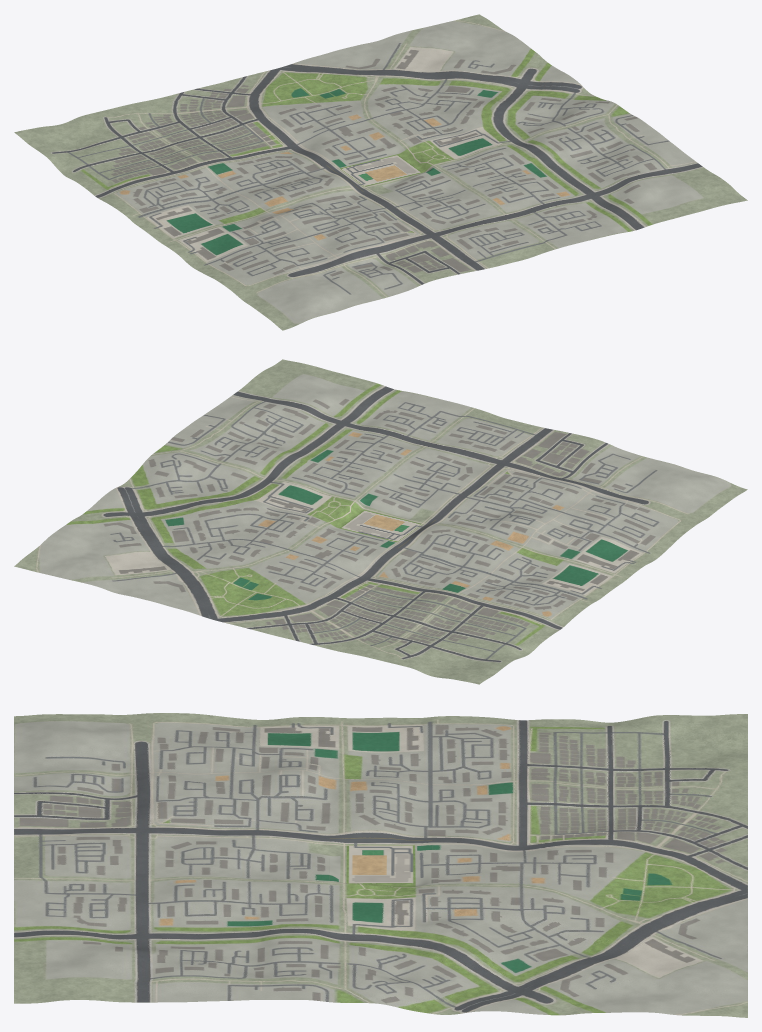
3 views of the same model, one above another, from view 1: azimuth 30°, elevation 25°; view 2: azimuth 150°, elevation 25°; view 3: azimuth 270°, elevation 25° (orthographic). The views are drawn at different scales.
Visible parts, largest first — view 1: ground-area, ground-school; view 2: ground-area, ground-school; view 3: ground-area, ground-school.
Part boxes in pixels (bbox=[...]): ground-area: bbox=[14, 14, 747, 330]; ground-school: bbox=[321, 143, 440, 192]; ground-area: bbox=[14, 359, 747, 684]; ground-school: bbox=[321, 496, 440, 549]; ground-area: bbox=[14, 713, 747, 1017]; ground-school: bbox=[329, 831, 432, 888].
Bounding box in the file's own units: 1088 × 58.05 × 1088.
2 materials, 2 textured.
